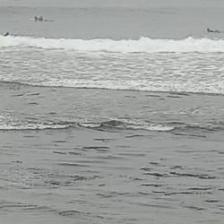surfer: (34, 16, 45, 22), (207, 28, 220, 32), (4, 31, 10, 36)
